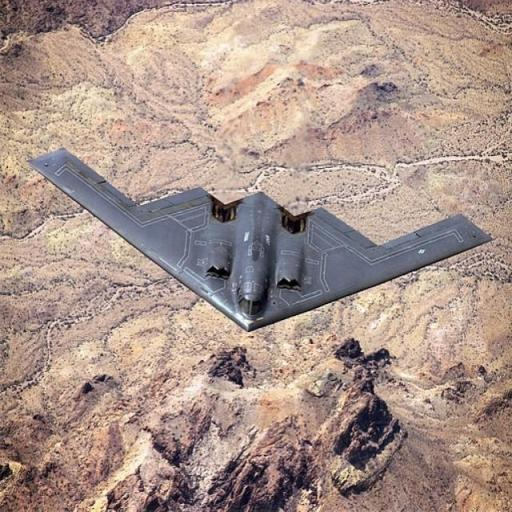uav: (24, 143, 498, 325)
